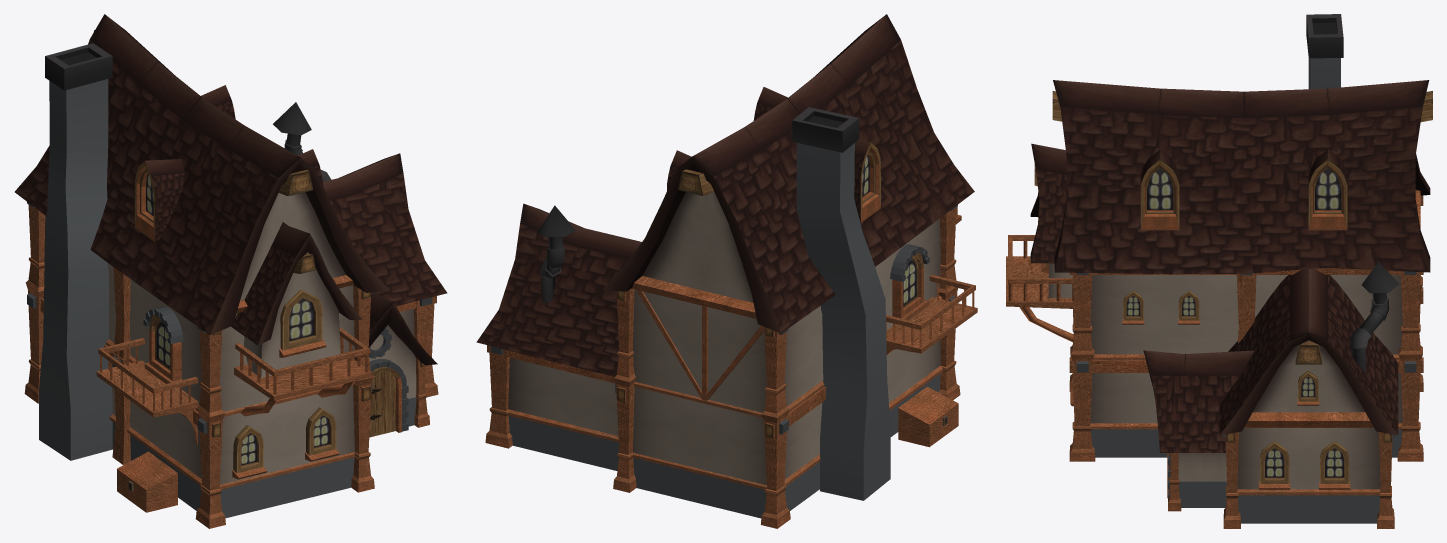
The model's file is fanasty_mod_village_building20.fbx.
The picture shows the model from 3 angles, left to right: view 1: azimuth 30°, elevation 25°; view 2: azimuth 150°, elevation 25°; view 3: azimuth 270°, elevation 25°; orthographic projection. The views are drawn at different scales.
Parts seen in each view (by area): view 1: village_building_020; view 2: village_building_020; view 3: village_building_020.
Part boxes in pixels (x1,y1,x2,y2): village_building_020: [15, 14, 447, 528]; village_building_020: [476, 14, 977, 528]; village_building_020: [1006, 14, 1432, 528].
Size of the model in its own units: 12.94 by 13.12 by 14.1.
